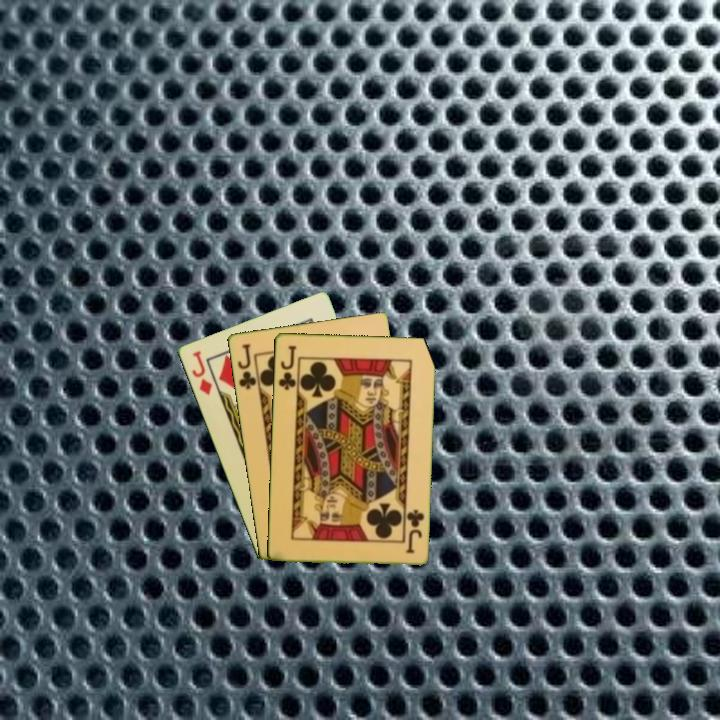Jc: (234, 340, 259, 392), (402, 505, 427, 556), (275, 342, 299, 392)
Jd: (188, 347, 215, 398)
